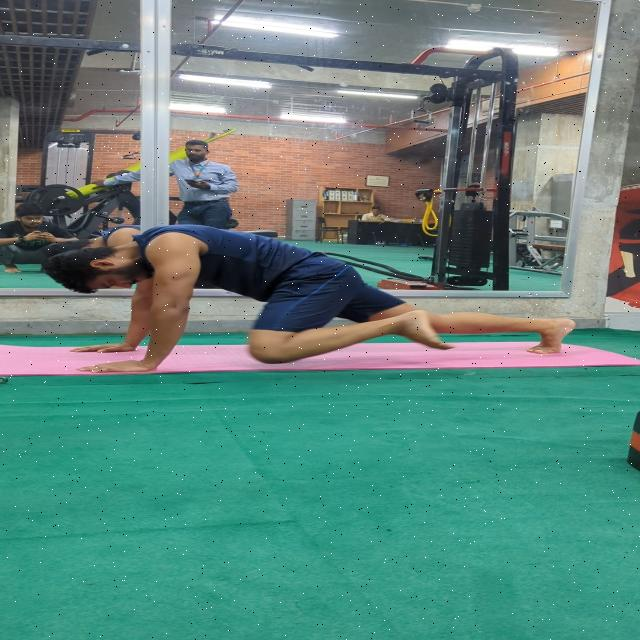Normal_MountainClimbers: (26, 220, 608, 376)
